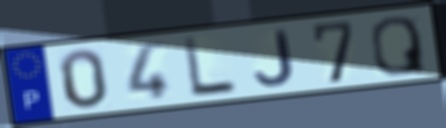0: (57, 46, 111, 112)
4: (124, 40, 175, 102)
7: (310, 20, 356, 85)
J: (252, 27, 297, 88)
L: (180, 35, 240, 100)
Q: (368, 14, 429, 77)
